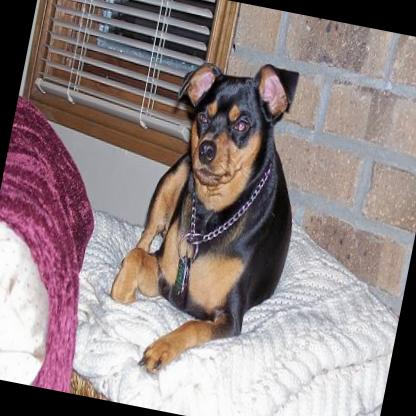miniature_pinscher: (93, 38, 324, 395)
